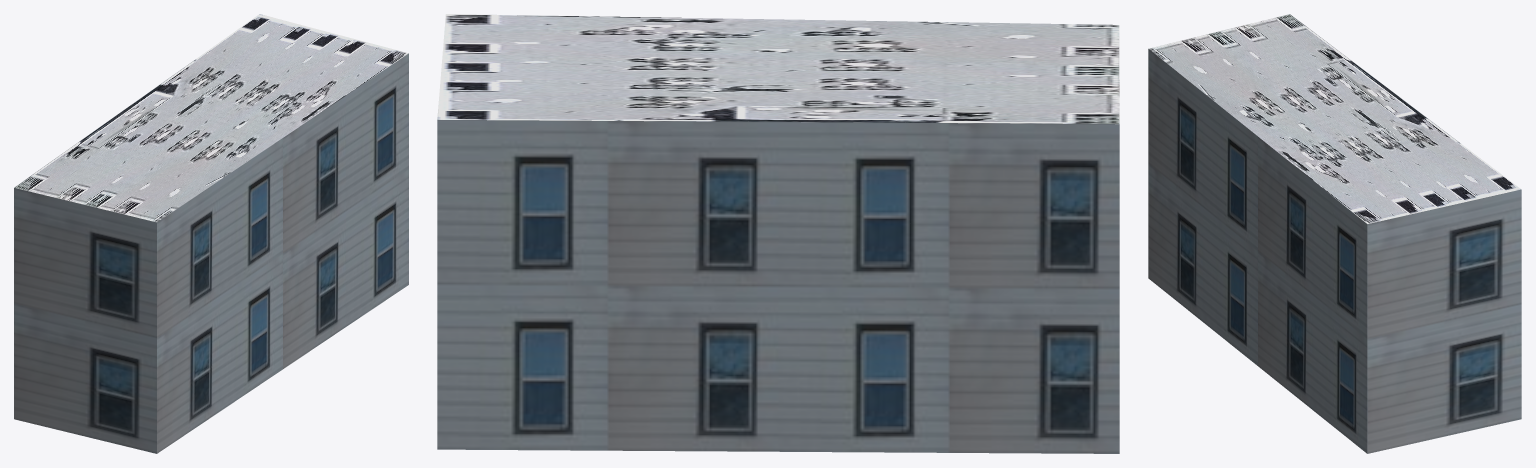
File: ResTex__251.fbx
The picture shows the model from 3 angles, left to right: view 1: azimuth 30°, elevation 25°; view 2: azimuth 150°, elevation 25°; view 3: azimuth 270°, elevation 25°; orthographic projection. The views are drawn at different scales.
Parts seen in each view (by area): view 1: CityEngineMaterial_18_m, CityEngineMaterial_4_m; view 2: CityEngineMaterial_18_m, CityEngineMaterial_4_m; view 3: CityEngineMaterial_18_m, CityEngineMaterial_4_m.
Part boxes in pixels (x1=…): CityEngineMaterial_18_m: x1=14, y1=53, x2=408, y2=453; CityEngineMaterial_4_m: x1=14, y1=14, x2=408, y2=222; CityEngineMaterial_18_m: x1=437, y1=120, x2=1119, y2=453; CityEngineMaterial_4_m: x1=437, y1=14, x2=1119, y2=124; CityEngineMaterial_18_m: x1=1148, y1=49, x2=1521, y2=453; CityEngineMaterial_4_m: x1=1149, y1=14, x2=1521, y2=223.
Size of the model in its own units: 11.77 by 6 by 8.83.
2 materials, 2 textured.
